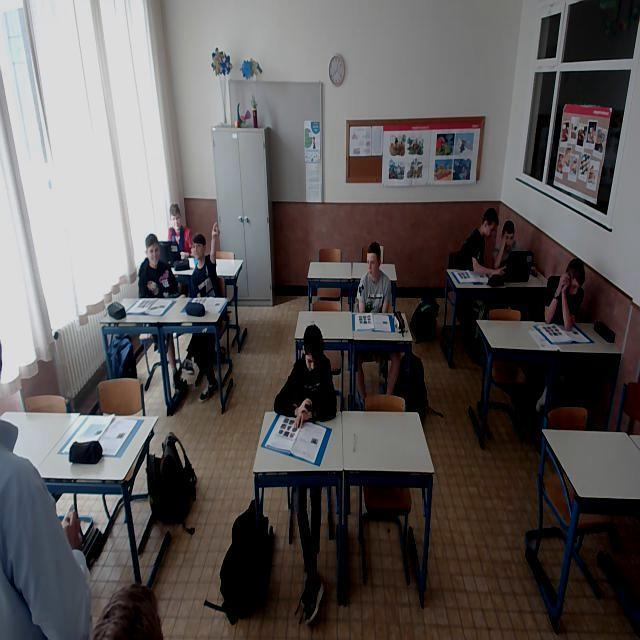Looking away: (298, 324, 328, 376), (563, 253, 587, 301), (497, 216, 516, 247), (480, 204, 492, 242)
Looking forward: (366, 246, 392, 286), (142, 233, 168, 271), (163, 202, 182, 236)
Raising hand: (192, 219, 220, 304)
